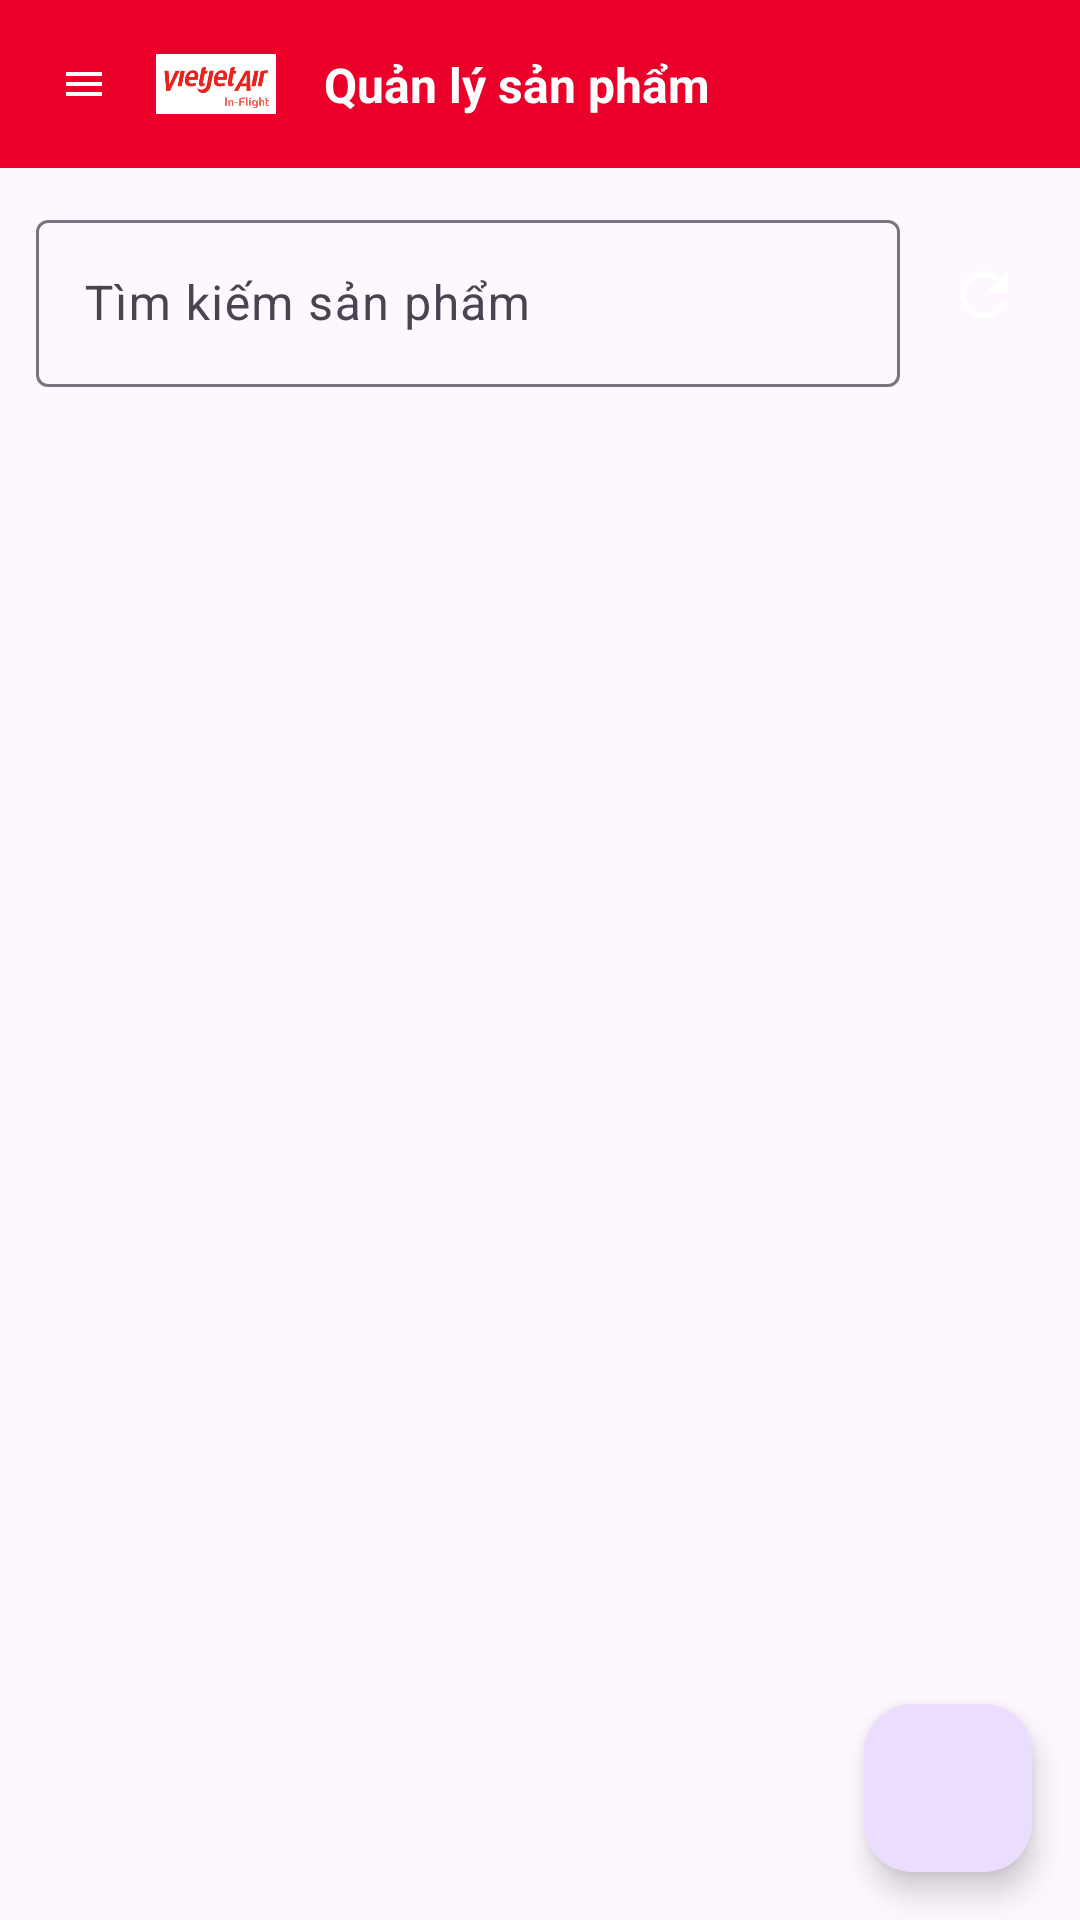

Icon bounding boxes for this 1080 × 1920 phone screenshot, format (x1, y1, x2, y2):
menu: (66, 72, 102, 96)
